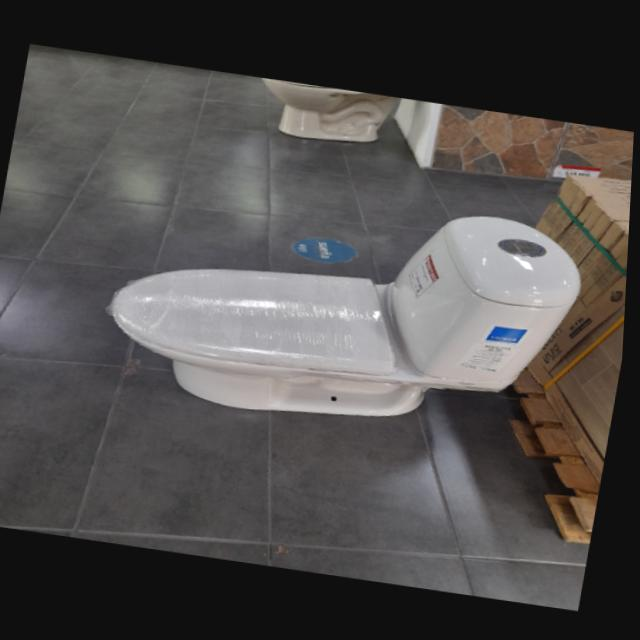toilet: (95, 161, 595, 451), (252, 74, 403, 148)
